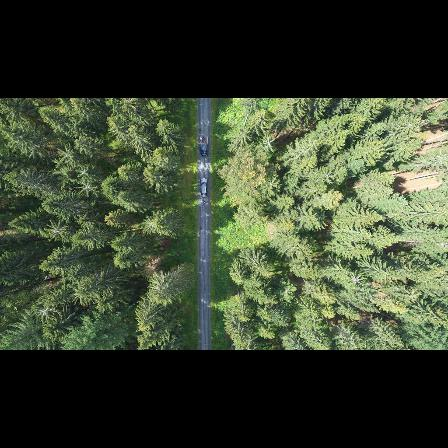Sick: (42, 219, 72, 242), (32, 301, 58, 326), (137, 210, 162, 234), (75, 177, 103, 198), (346, 268, 369, 292), (257, 131, 280, 154), (54, 144, 80, 163), (74, 162, 96, 179)
